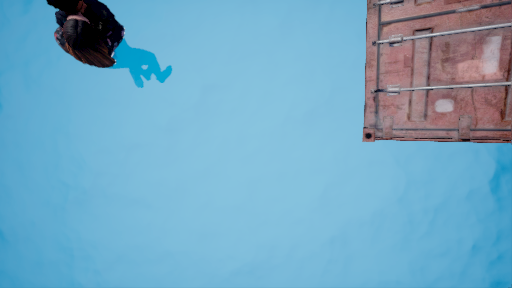person: (44, 4, 174, 91)
